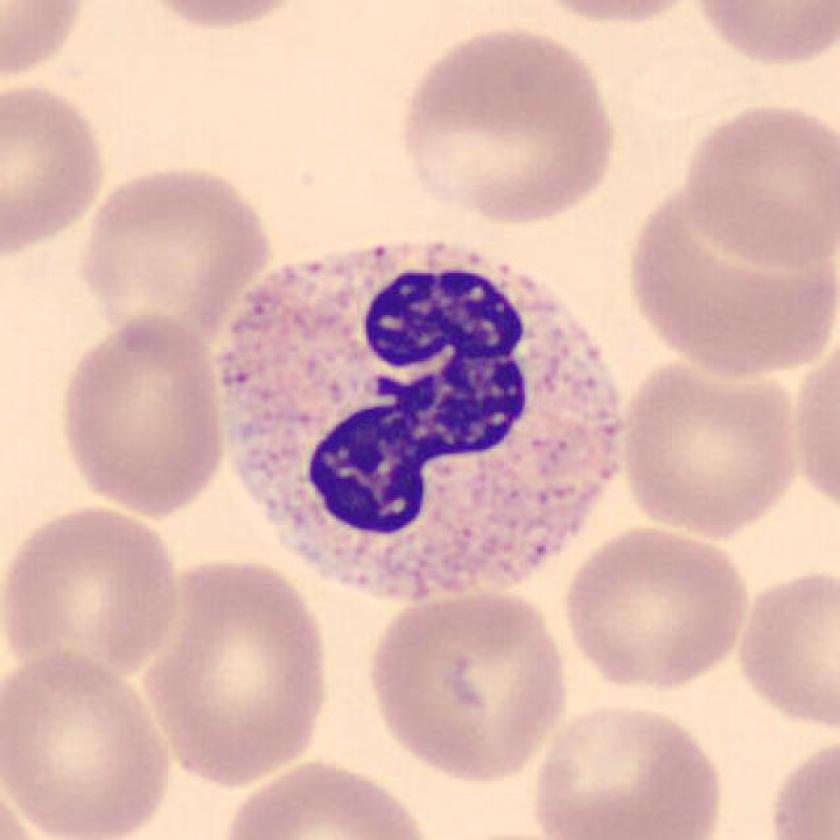neutrophil: (214, 240, 617, 606)
